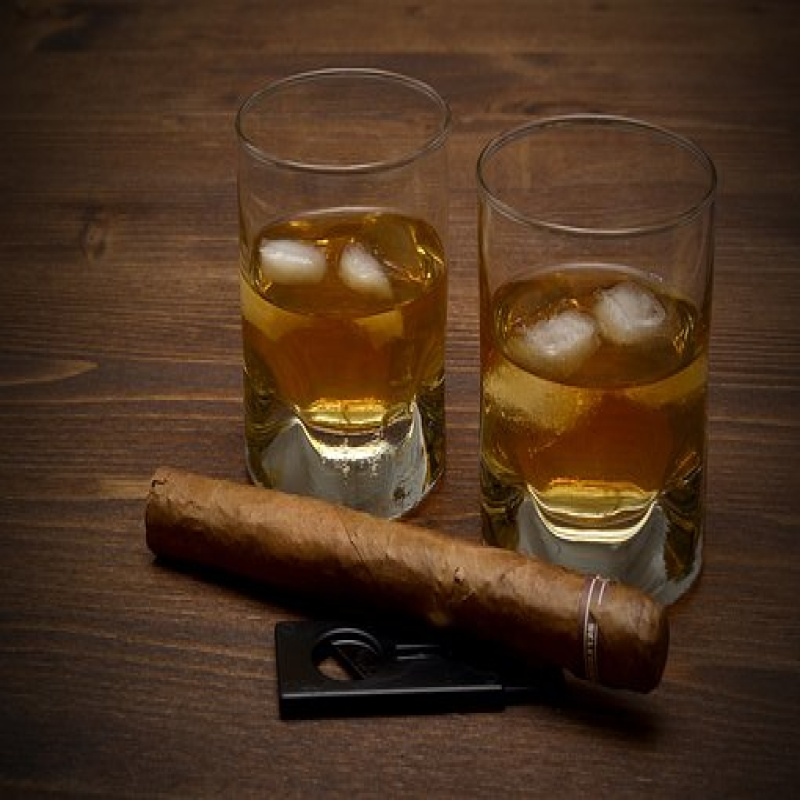whiskey: (480, 118, 706, 602), (231, 71, 444, 505)
